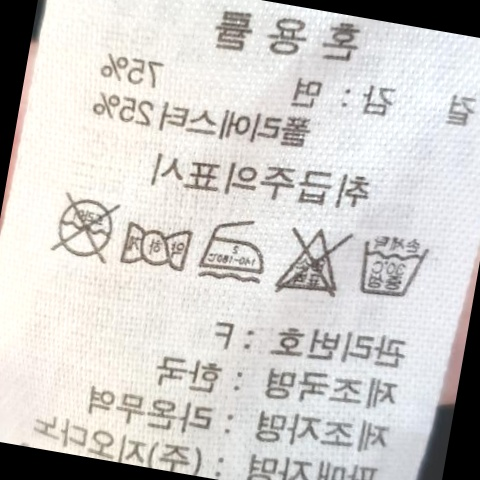DN_dry_clean: (44, 185, 124, 268)
hand_wash: (350, 231, 434, 308)
iron_medium: (197, 211, 272, 284)
non_chlorine_bleach: (265, 215, 354, 307)
wring: (116, 212, 197, 280)
